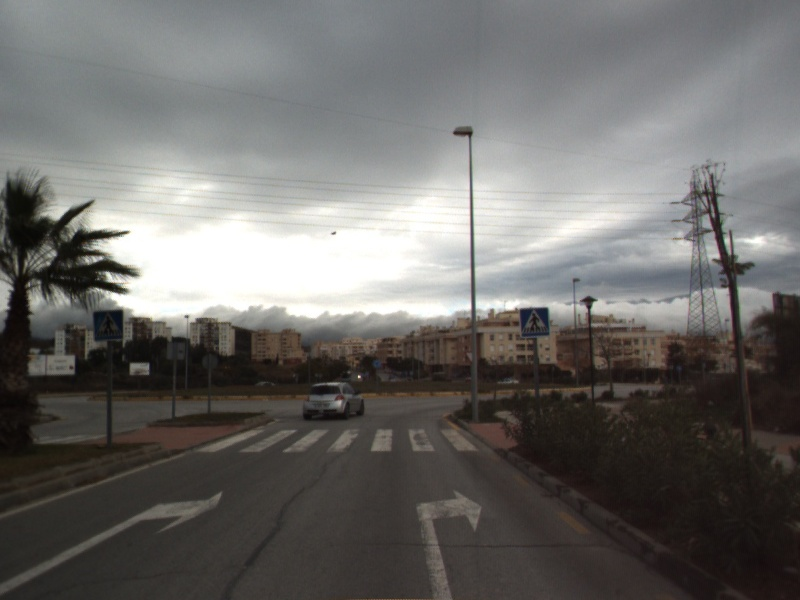RIGHT: (1, 489, 225, 596), (413, 487, 485, 600)
